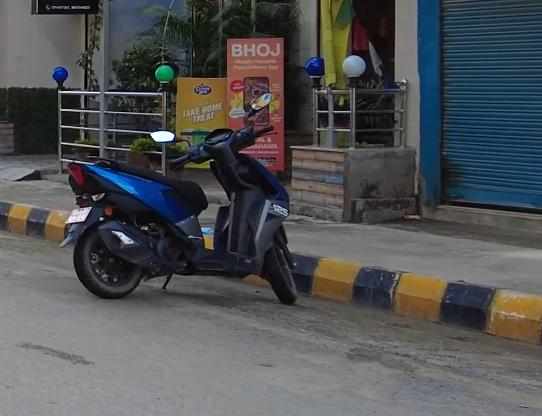scooter: (54, 89, 311, 310)
